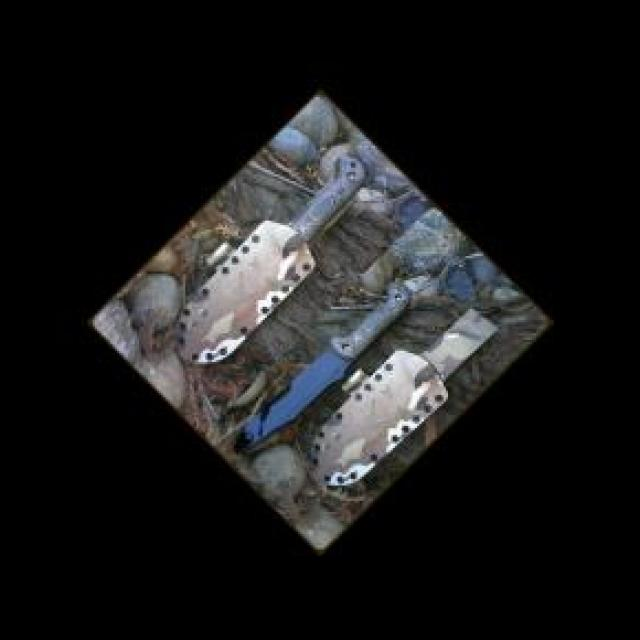knife: (156, 146, 368, 374), (302, 302, 504, 488), (225, 276, 411, 442)
